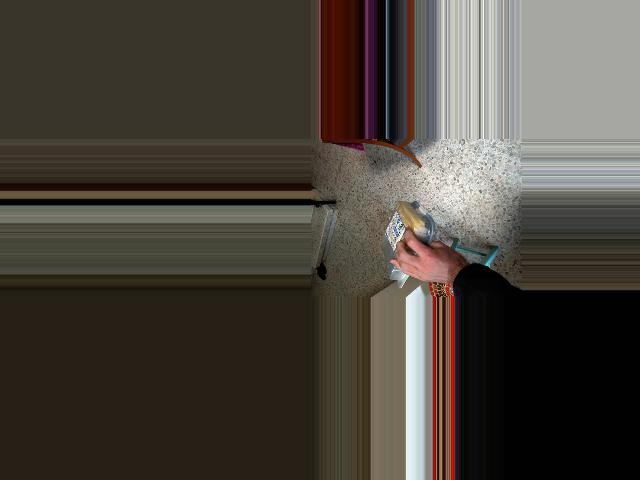cheese: (383, 201, 426, 287)
